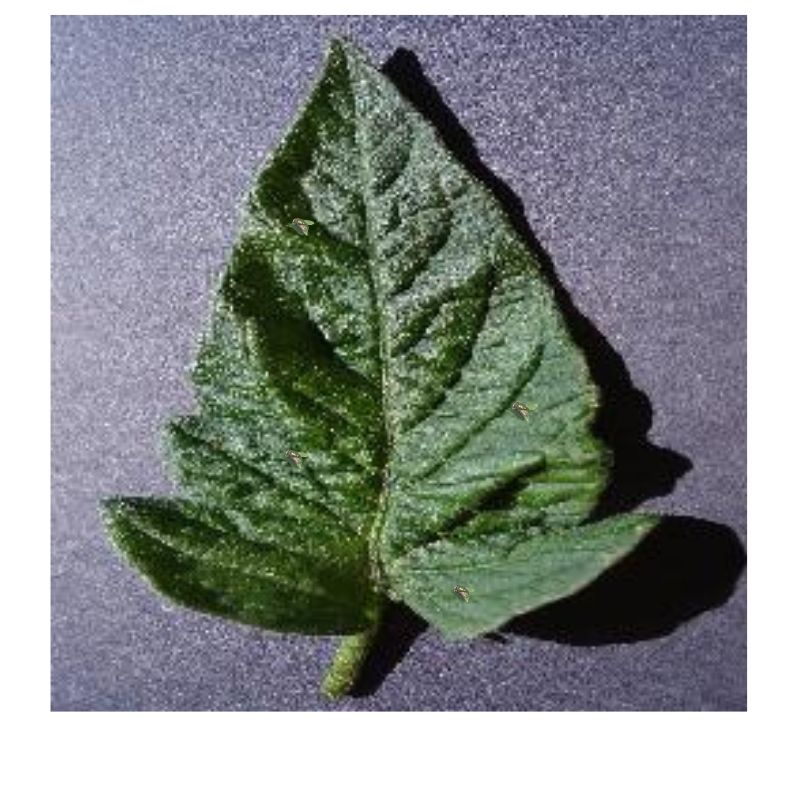liriomyza: (284, 447, 310, 470), (510, 399, 534, 422), (453, 582, 474, 604), (293, 216, 314, 236)
